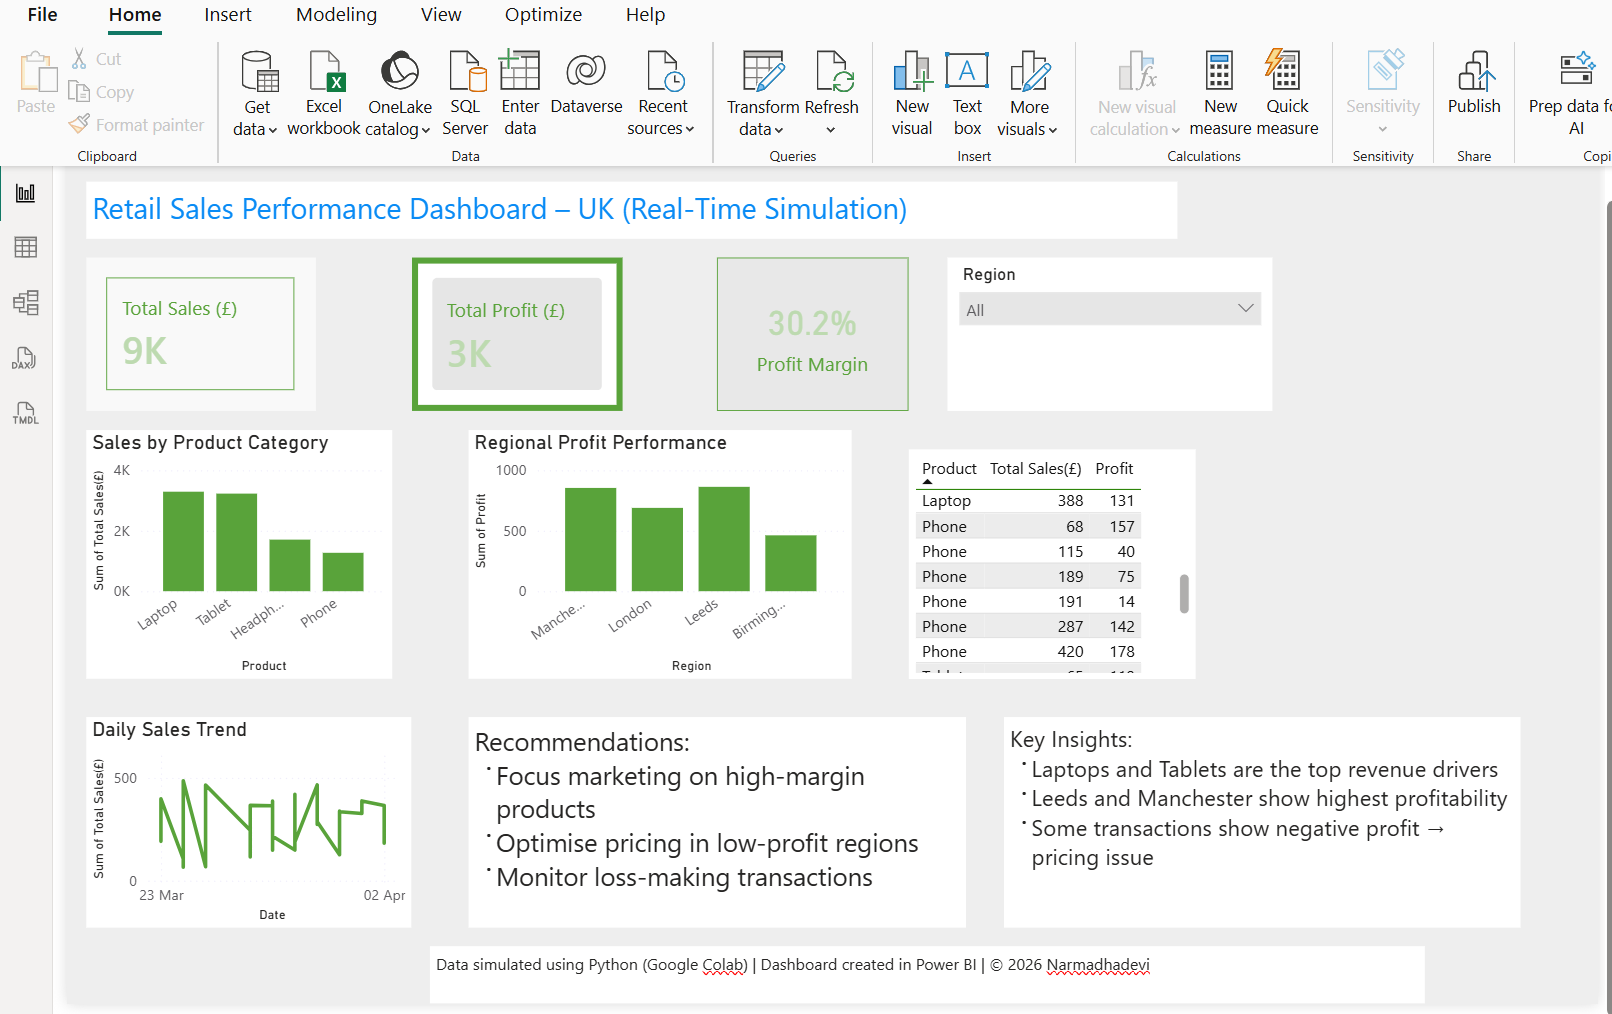

What the dashboard file says about the page in this screenshot:
{"tool":"powerbi","page":{"name":"Page 1","canvas":[1280,720],"ordinal":0},"visuals":[{"type":"cardVisual","title":"Total Sales(£)","fields":{"Data":["Sum(live_sales (1).Sales)"]},"box":[16,96,192,128],"z":0},{"type":"cardVisual","fields":{"Data":["Sum(live_sales (1).Profit)"]},"box":[288,96,176,128],"z":1000},{"type":"clusteredColumnChart","title":"Sales by Product Category","fields":{"Category":["live_sales (1).Product"],"Y":["Sum(live_sales (1).Total Sales(£))"]},"box":[16,240,256,208],"z":2000},{"type":"clusteredColumnChart","title":"Regional Profit Performance","fields":{"Category":["live_sales (1).Region"],"Y":["Sum(live_sales (1).Profit)"]},"box":[336,240,320,208],"z":3000},{"type":"slicer","fields":{"Values":["live_sales (1).Region"]},"box":[736,96,272,128],"z":4000},{"type":"lineChart","title":"Daily Sales Trend","fields":{"Category":["live_sales (1).Date"],"Y":["Sum(live_sales (1).Sales)"]},"box":[16,480,272,176],"z":5000},{"type":"card","fields":{"Values":["live_sales (1).Profit Margin"]},"box":[544,96,160,128],"z":6000},{"type":"tableEx","fields":{"Values":["live_sales (1).Product","live_sales (1).Total Sales(£)","live_sales (1).Profit"]},"box":[704,256,240,192],"z":7000},{"type":"textbox","box":[16,32,912,48],"z":8000},{"type":"textbox","box":[784,480,432,176],"z":8001},{"type":"textbox","box":[336,480,416,176],"z":8002},{"type":"textbox","box":[304,672,832,48],"z":8003}]}

Visuals, with their boxes on the page's 1280x720 design canvas (x1, y1, x2, y2). These are canvas units, not pixel positions in the 1612x1014 screenshot, which may show the page scaled, cropped or inside an application window:
"Total Sales(£)" cardVisual: 16 96 208 224
cardVisual - Sum(live_sales (1).Profit): 288 96 464 224
"Sales by Product Category" clusteredColumnChart: 16 240 272 448
"Regional Profit Performance" clusteredColumnChart: 336 240 656 448
slicer - live_sales (1).Region: 736 96 1008 224
"Daily Sales Trend" lineChart: 16 480 288 656
card - live_sales (1).Profit Margin: 544 96 704 224
tableEx - live_sales (1).Product x live_sales (1).Total Sales(£): 704 256 944 448
textbox: 16 32 928 80
textbox: 784 480 1216 656
textbox: 336 480 752 656
textbox: 304 672 1136 720
